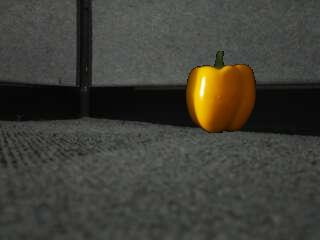Capsicum: (185, 48, 259, 134)
